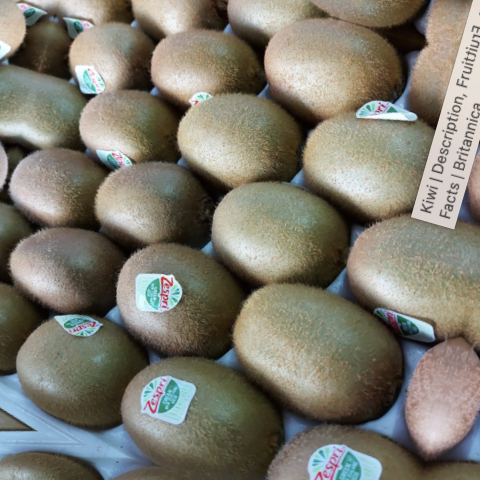kiwi: (193, 253, 427, 453), (274, 76, 465, 244), (240, 0, 435, 153), (101, 329, 295, 480), (316, 190, 480, 364), (153, 69, 323, 213), (99, 230, 259, 364), (0, 203, 151, 341), (131, 12, 278, 137), (64, 67, 197, 191), (75, 138, 208, 257)
